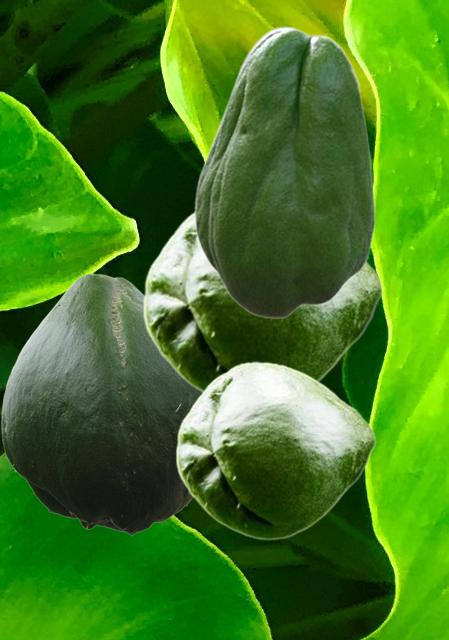sayote: (194, 26, 375, 318), (1, 273, 200, 535), (142, 209, 382, 392), (175, 361, 375, 539)
